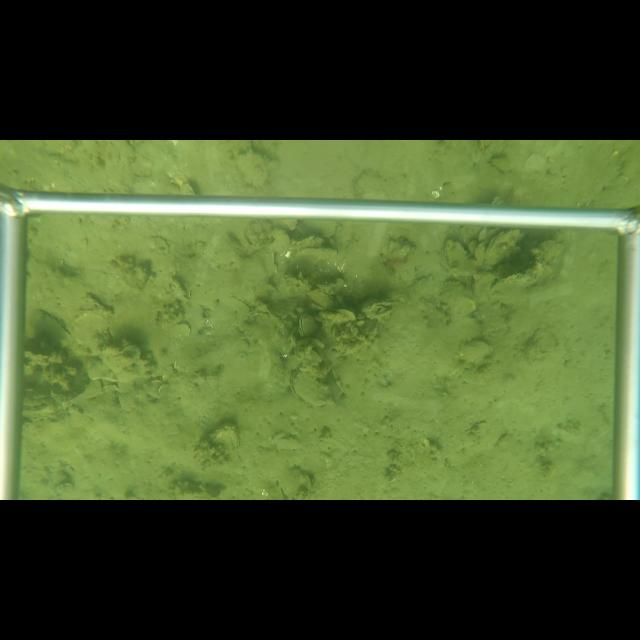Oyster-Closed: (284, 371, 335, 410), (29, 311, 73, 350), (231, 149, 270, 189), (484, 230, 524, 266), (296, 313, 317, 337)
